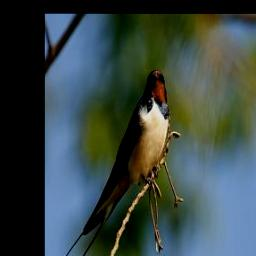Swallow: (52, 68, 168, 256)
